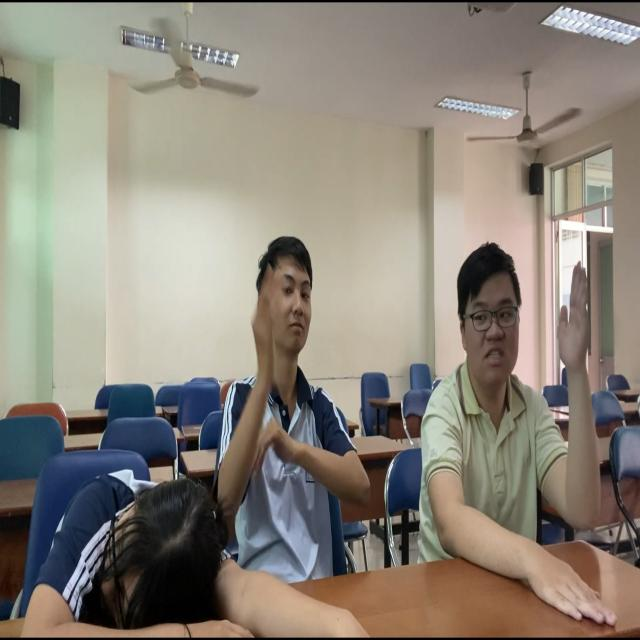raise_hand: (403, 235, 636, 637), (231, 230, 357, 629)
sleep: (1, 454, 265, 639)
